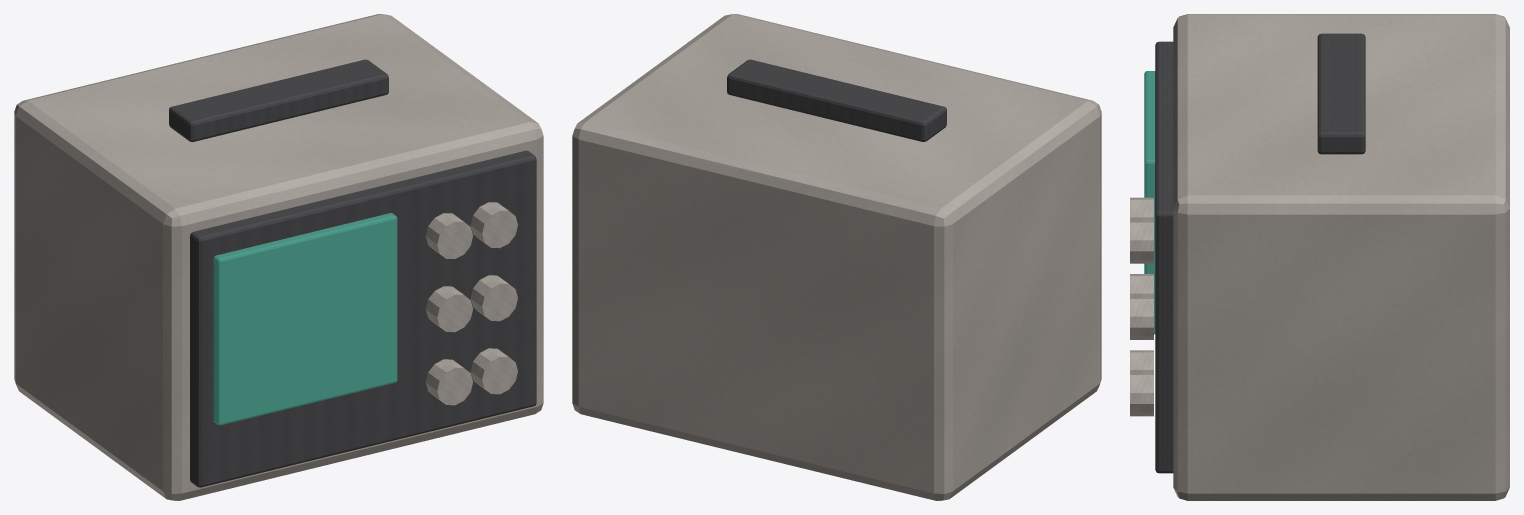
Rendered from oscilloscope.glb.
3 views of the same model, side by side, from view 1: azimuth 30°, elevation 25°; view 2: azimuth 150°, elevation 25°; view 3: azimuth 270°, elevation 25° (orthographic). The views are drawn at different scales.
Parts seen in each view (by area): view 1: MESH_MAT_Painted_Ivory.184, MESH_MAT_Dark_Metal.230, display.018; view 2: MESH_MAT_Painted_Ivory.184, MESH_MAT_Dark_Metal.230; view 3: MESH_MAT_Painted_Ivory.184, MESH_MAT_Dark_Metal.230, display.018.
Boxes of the visible parts, left/top/right/bottom form: MESH_MAT_Painted_Ivory.184: left=14, top=14, right=543, bottom=500; MESH_MAT_Dark_Metal.230: left=169, top=59, right=536, bottom=487; display.018: left=213, top=213, right=397, bottom=425; MESH_MAT_Painted_Ivory.184: left=572, top=14, right=1101, bottom=500; MESH_MAT_Dark_Metal.230: left=727, top=59, right=946, bottom=141; MESH_MAT_Painted_Ivory.184: left=1130, top=14, right=1509, bottom=500; MESH_MAT_Dark_Metal.230: left=1155, top=33, right=1365, bottom=473; display.018: left=1144, top=71, right=1155, bottom=334.
Size of the model in its own units: 0.38 by 0.3 by 0.316.
3 materials, 2 textured.
